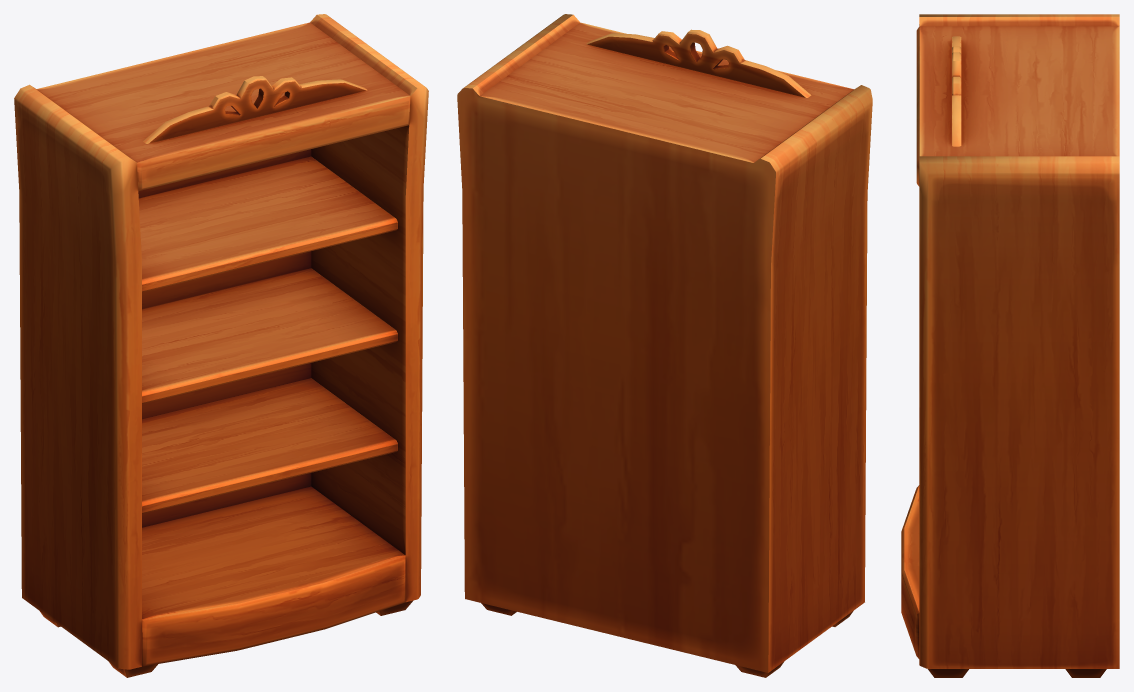
Rendered from Cupboard01.FBX.
The picture shows the model from 3 angles, left to right: view 1: azimuth 30°, elevation 25°; view 2: azimuth 150°, elevation 25°; view 3: azimuth 270°, elevation 25°; orthographic projection.
Visible parts, largest first — view 1: Cupboard01; view 2: Cupboard01; view 3: Cupboard01.
Part boxes in pixels (x1,y1,x2,y2): Cupboard01: (14, 14, 428, 677); Cupboard01: (457, 14, 872, 677); Cupboard01: (901, 14, 1119, 677).
Size of what is drawn, in the model's own units: 1.28 by 2.15 by 0.7664.
